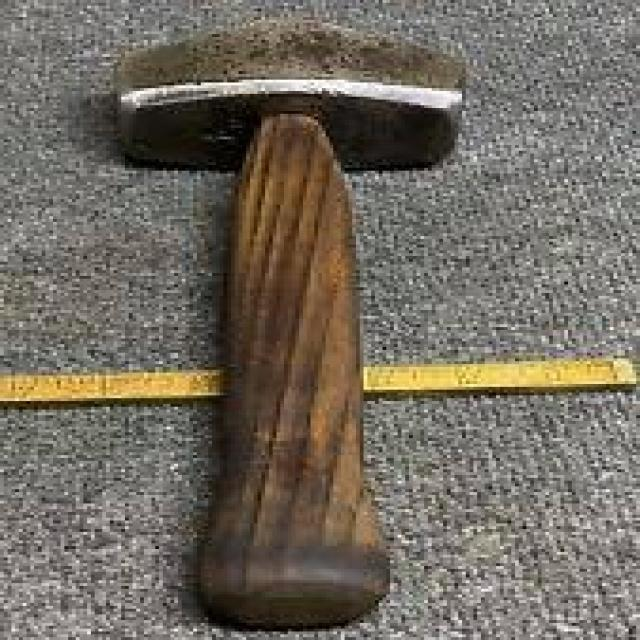hammer: (97, 11, 490, 640)
